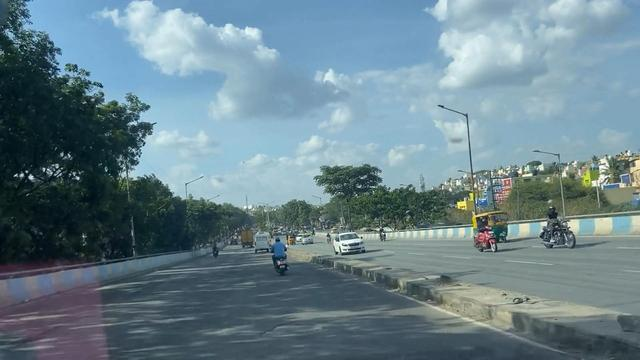LMV: (267, 222, 292, 277)
